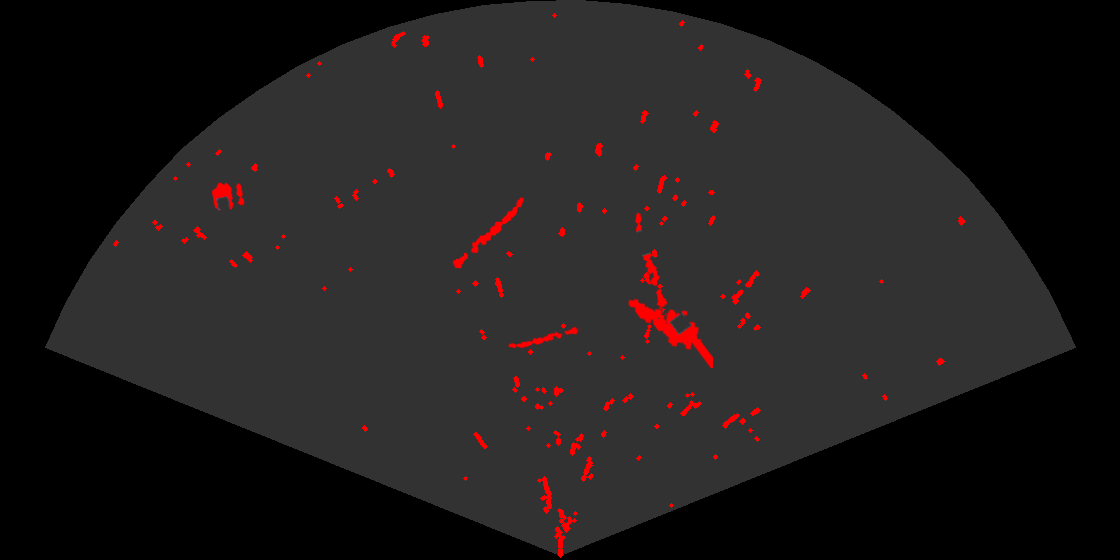ball: (210, 181, 246, 213)
chain: (451, 196, 525, 270), (633, 211, 669, 310), (506, 325, 582, 350)
frogman: (626, 297, 713, 368)
